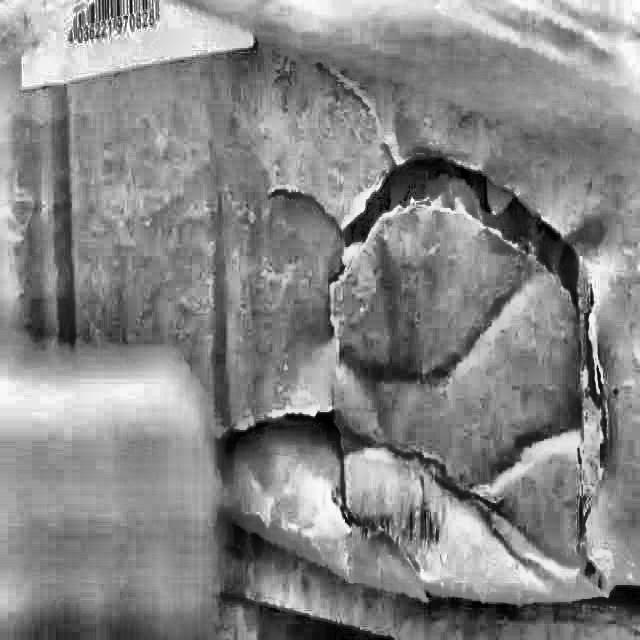box: (0, 0, 640, 640)
hole: (325, 157, 612, 592)
